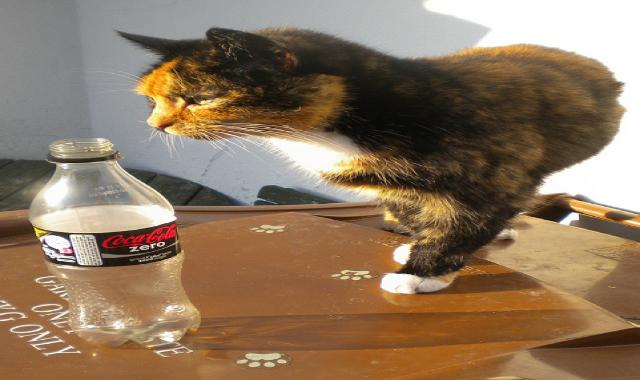cat: (132, 13, 640, 301)
